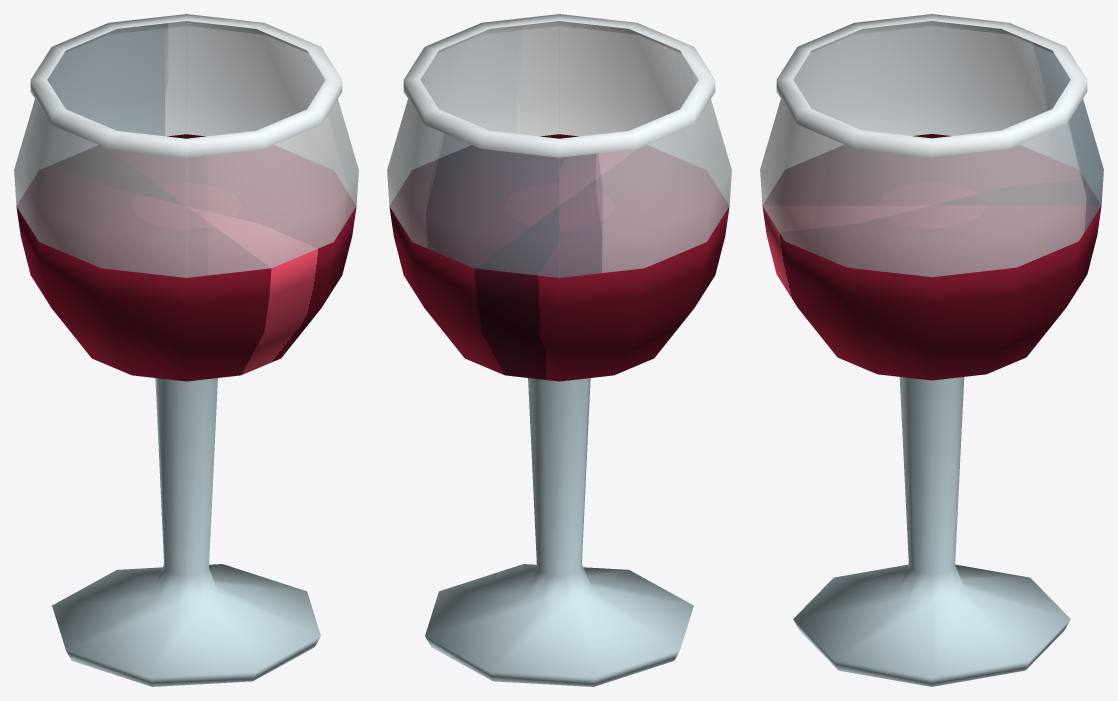
The model's file is drinks-wineGlass.glb.
The picture shows the model from 3 angles, left to right: view 1: azimuth 30°, elevation 25°; view 2: azimuth 150°, elevation 25°; view 3: azimuth 270°, elevation 25°; orthographic projection.
Visible parts, largest first — view 1: drinks.wineGlass; view 2: drinks.wineGlass; view 3: drinks.wineGlass.
Boxes of the visible parts, left/top/right/bottom form: drinks.wineGlass: left=14, top=14, right=358, bottom=686; drinks.wineGlass: left=387, top=14, right=731, bottom=686; drinks.wineGlass: left=760, top=14, right=1103, bottom=686.
Bounding box in the file's own units: 1.01 × 1.78 × 1.01.
Materials: 4 (2 with a texture image).
